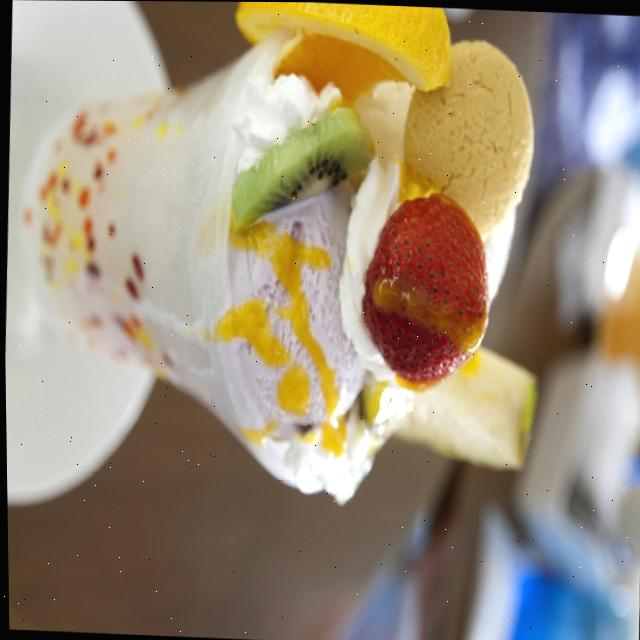蛋糕甜品: (14, 0, 553, 510)
